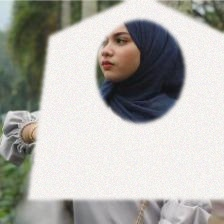Mukena: (28, 0, 224, 199)
